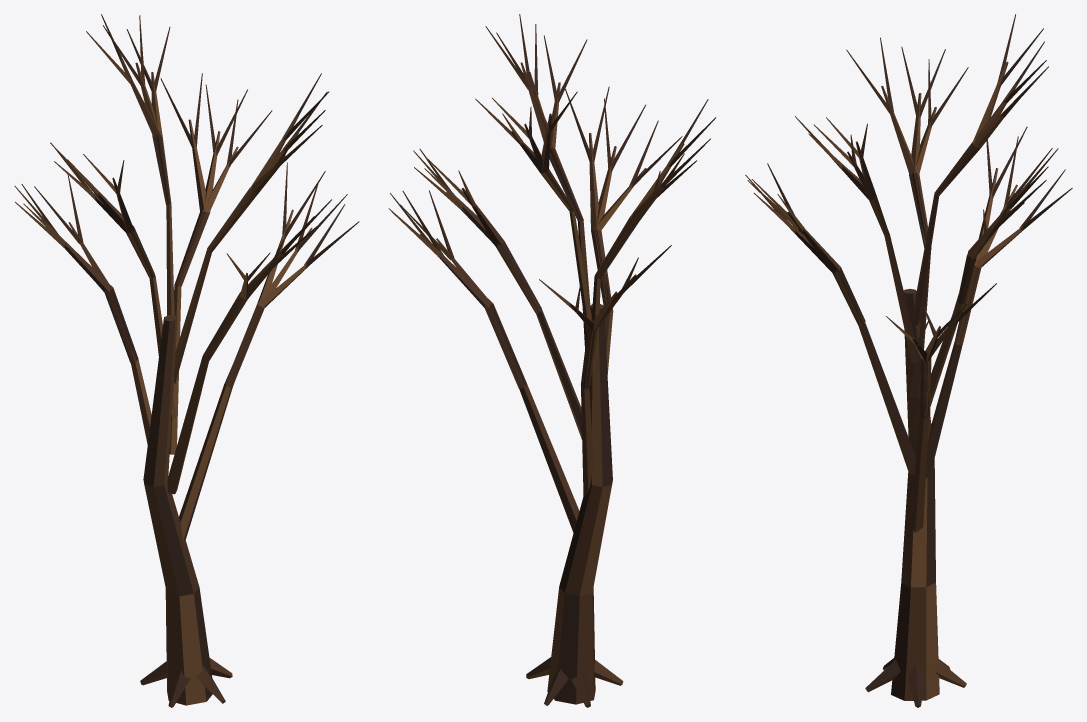
The model's file is tree_poplar_bare.obj.
3 views of the same model, side by side, from view 1: azimuth 30°, elevation 25°; view 2: azimuth 150°, elevation 25°; view 3: azimuth 270°, elevation 25° (orthographic).
Visible parts, largest first — view 1: tree_poplar_bare; view 2: tree_poplar_bare; view 3: tree_poplar_bare.
Part boxes in pixels (<box>): tree_poplar_bare: <box>14,14,359,707</box>; tree_poplar_bare: <box>388,14,716,707</box>; tree_poplar_bare: <box>745,14,1072,707</box>.
Size of the model in its own units: 336 by 700 by 318.
1 material, 1 textured.
